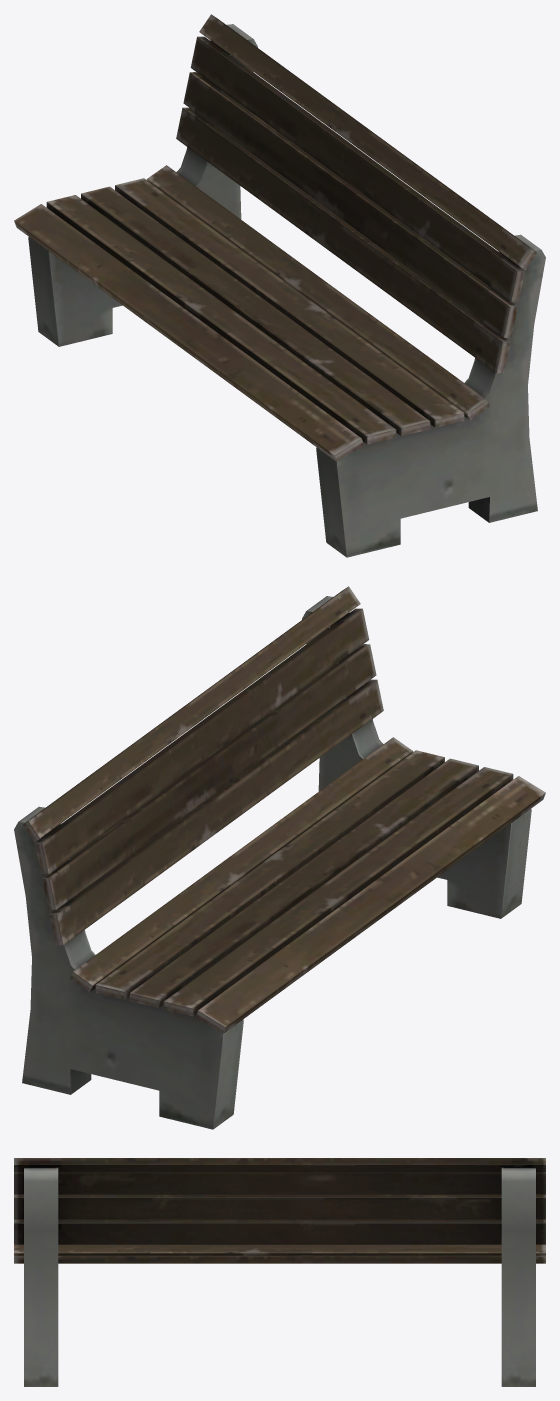
Rendered from bench_01.fbx.
3 views of the same model, one above another, from view 1: azimuth 30°, elevation 25°; view 2: azimuth 150°, elevation 25°; view 3: azimuth 270°, elevation 25° (orthographic). The views are drawn at different scales.
Parts seen in each view (by area): view 1: GEOM0_LOD0; view 2: GEOM0_LOD0; view 3: GEOM0_LOD0.
Boxes of the visible parts, x1=… form: GEOM0_LOD0: x1=14, y1=14, x2=545, y2=557; GEOM0_LOD0: x1=14, y1=586, x2=545, y2=1129; GEOM0_LOD0: x1=14, y1=1158, x2=545, y2=1386.
Size of what is drawn, in the model's own units: 97.75 by 116 by 249.
